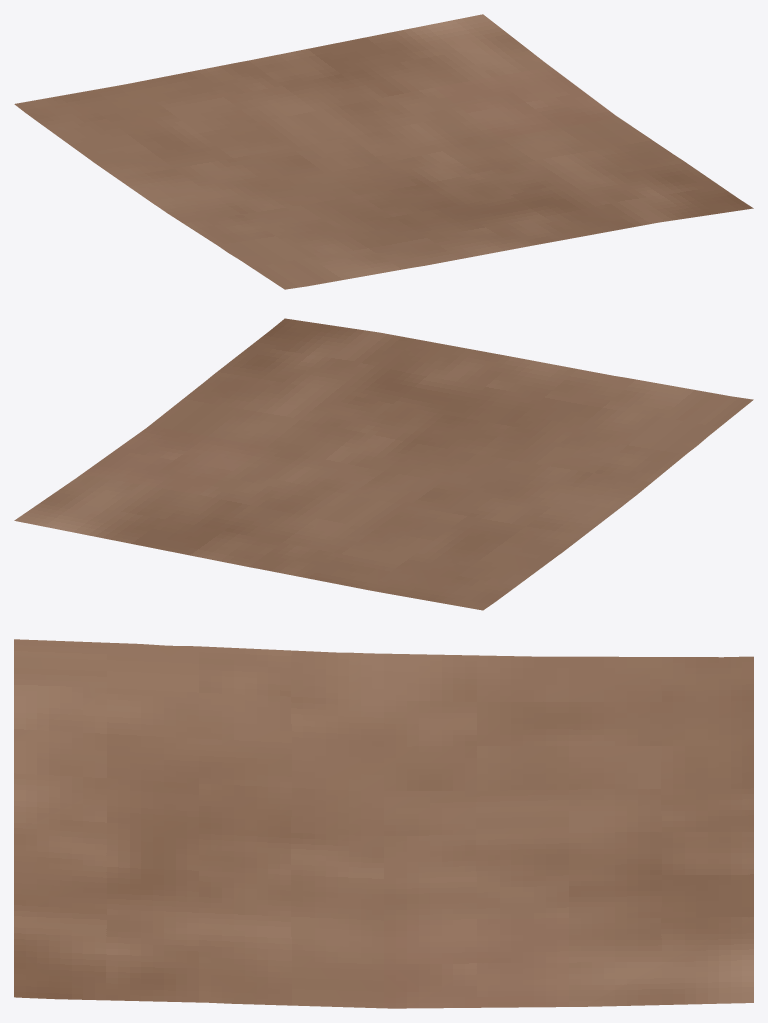
3 renders of one model, top to bottom at view 1: azimuth 30°, elevation 25°; view 2: azimuth 150°, elevation 25°; view 3: azimuth 270°, elevation 25°, orthographic. The views are drawn at different scales.
Size of the model in its own units: 16 by 1.35 by 16.
Materials: 1 (1 with a texture image).
